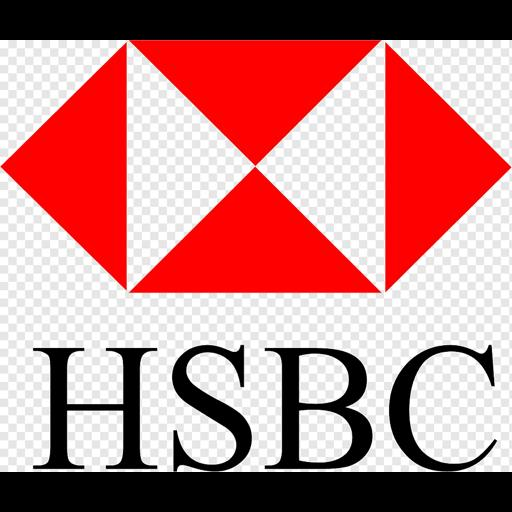HSBC Bank: (0, 40, 512, 472)
